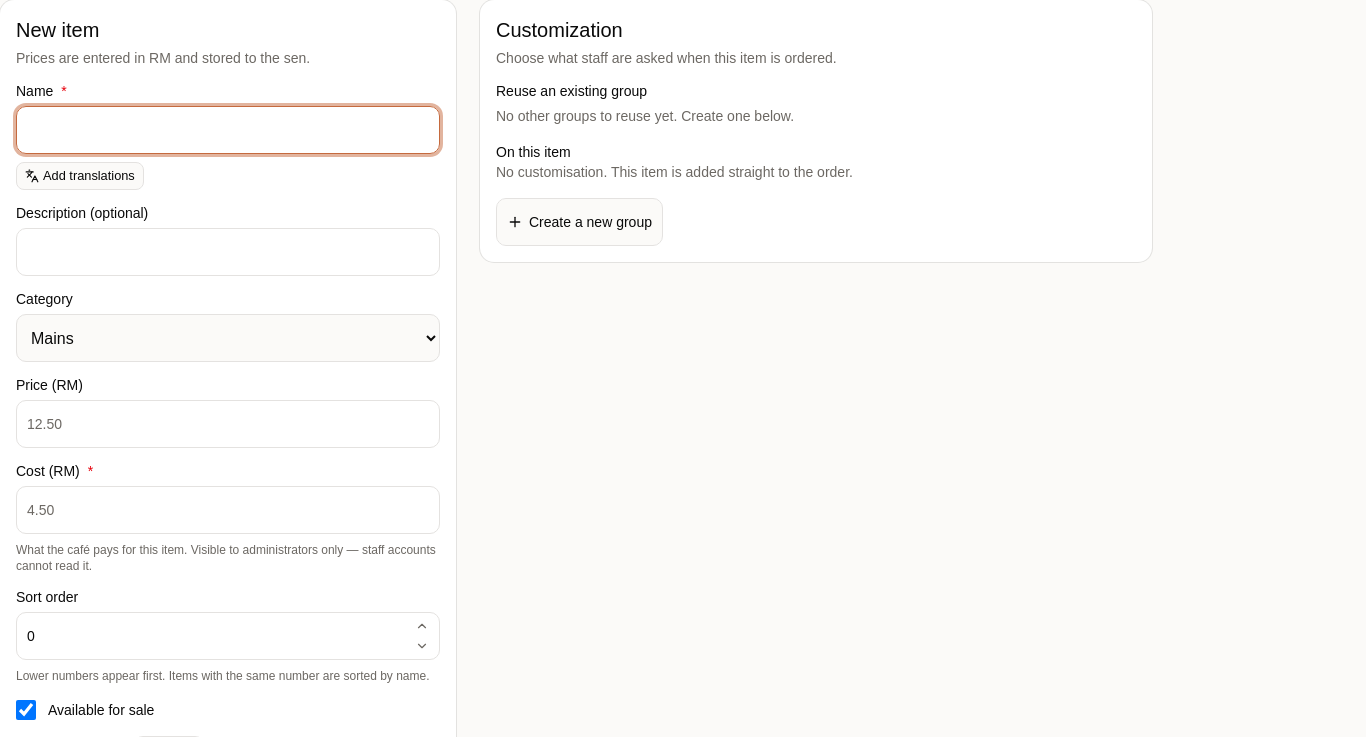
the form shows one name, and the rest behind a button › opens the same dialog the option editor uses
The width and height of the screenshot is (1366, 737).
Click the button with test id "item-translate" at (80, 176), box x1=16 y1=162 x2=144 y2=190
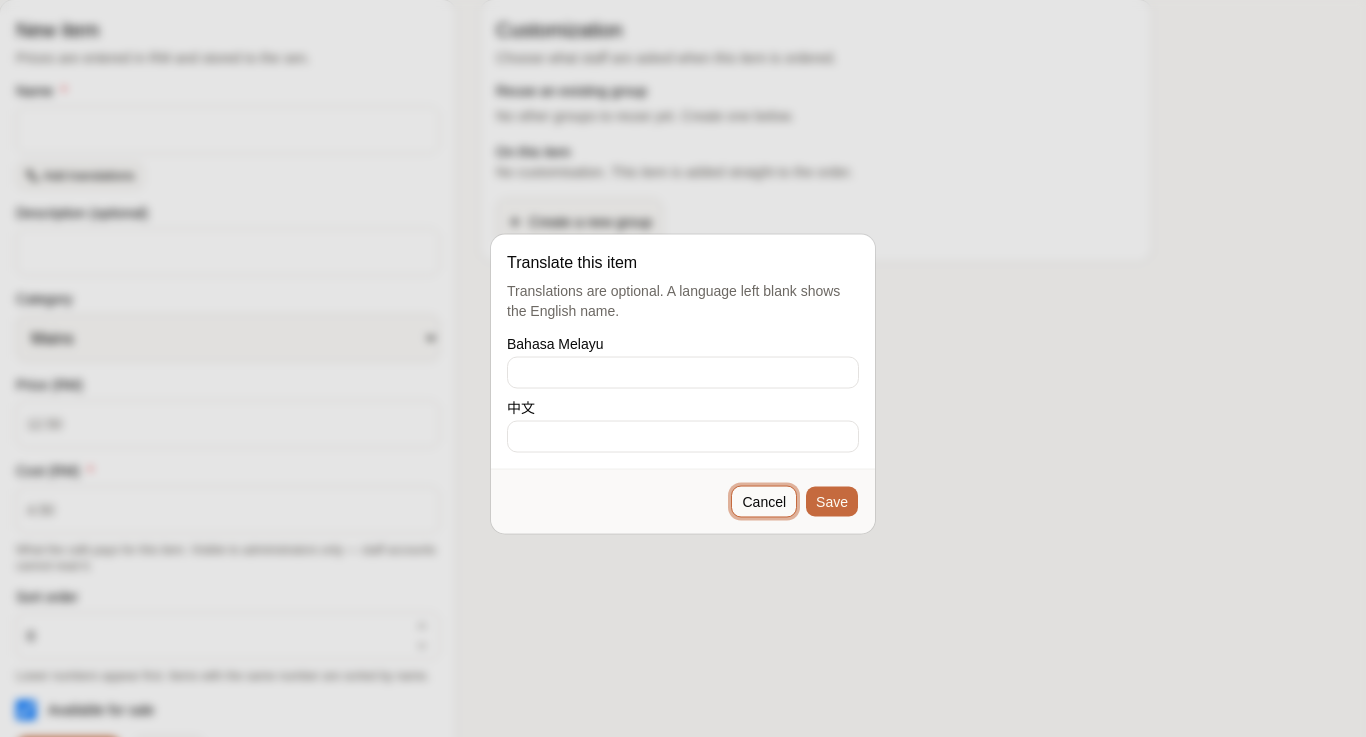
Check: the heading with test id "translation-title" reads "Translate this item", box x1=507 y1=254 x2=637 y2=270
Check: the text "Translations are optional" is shown, box x1=507 y1=282 x2=840 y2=318
